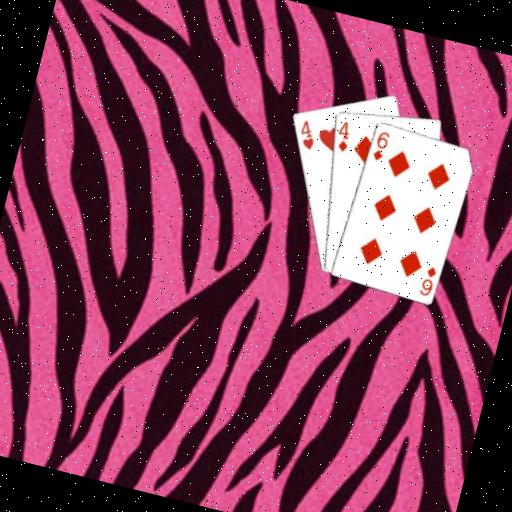4D: (331, 116, 355, 154)
4H: (294, 116, 321, 152)
6D: (369, 127, 392, 164), (416, 261, 439, 298)
